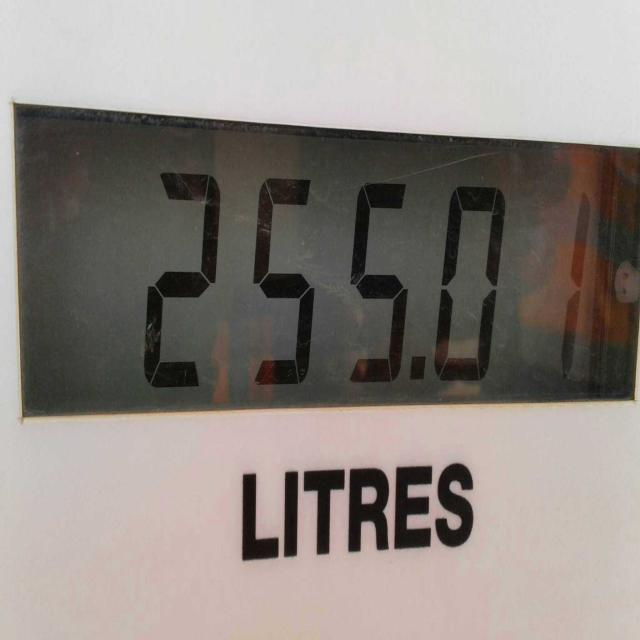.: (409, 354, 424, 384)
0: (436, 182, 502, 386)
1: (559, 182, 591, 374)
2: (138, 167, 222, 386)
5: (252, 174, 313, 385), (353, 181, 408, 389)
